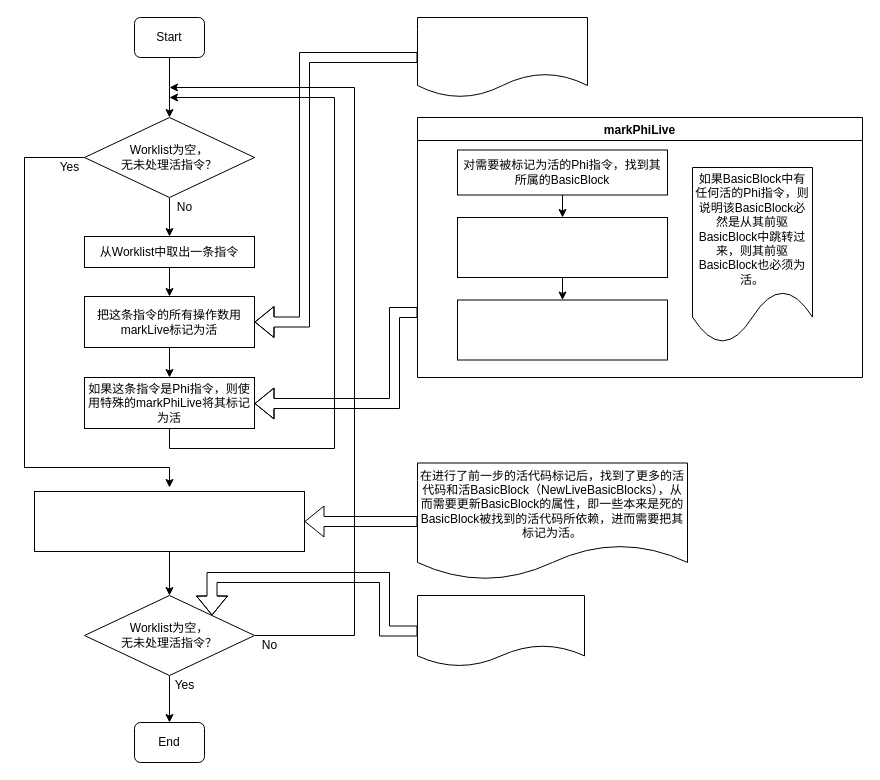
This 880x780 diagram has some shape labels left out. Each missing label, with the centre of its shape:
markLive是一个复杂的递归操作，会将一些指令放入WorkList: the point at 502,57
使用markLiveBranchesFromControlDependences: the point at 169,521
循环标记直至没有新的指令能够被标记为活，则标记结束。: the point at 500,630
找到该BasicBlock的每个前驱BasicBlock，标记其为活（即将其放入NewLiveBlocks数组中）: the point at 562,329
检查该BasicBlock是否已经做过Phi标记，避免重复标记浪费时间: the point at 562,247
